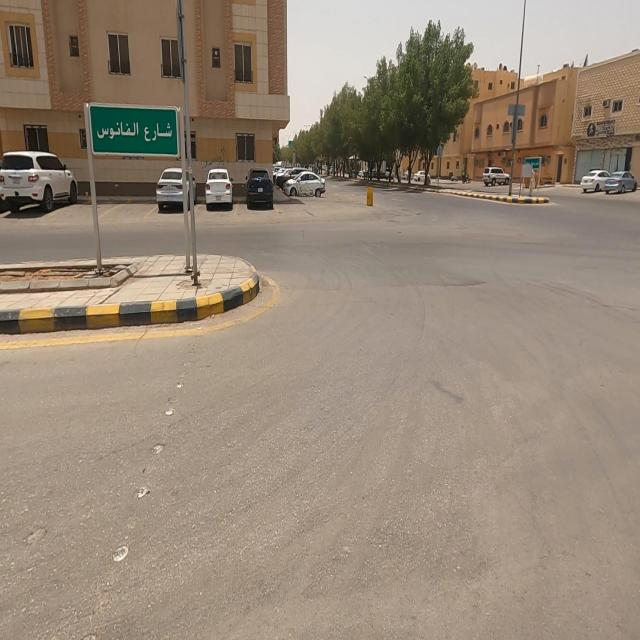Graffiti: (200, 148, 230, 170)
